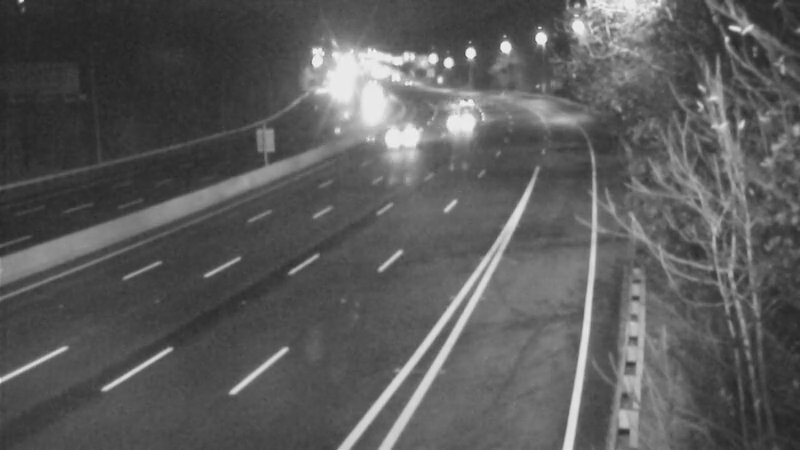vehicle: (434, 79, 484, 129), (438, 99, 488, 149), (380, 115, 430, 165), (343, 83, 393, 133)
